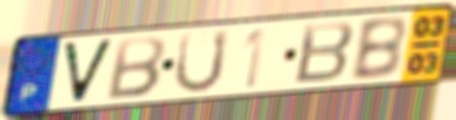1: (242, 28, 266, 88)
B: (103, 34, 169, 101), (292, 19, 357, 86), (347, 14, 409, 83)
U: (171, 28, 232, 96)
V: (60, 37, 118, 106)
